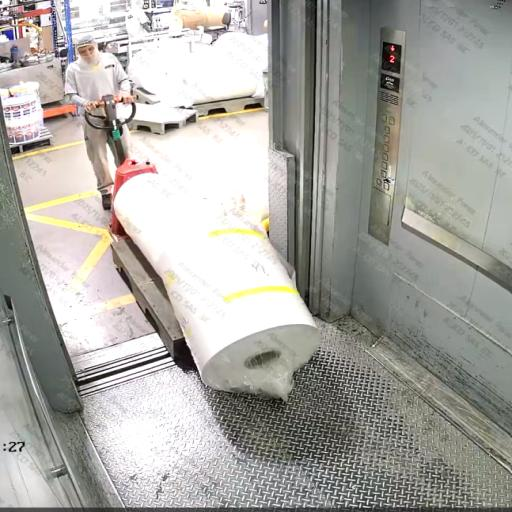rollos caidos: (81, 160, 345, 420)
